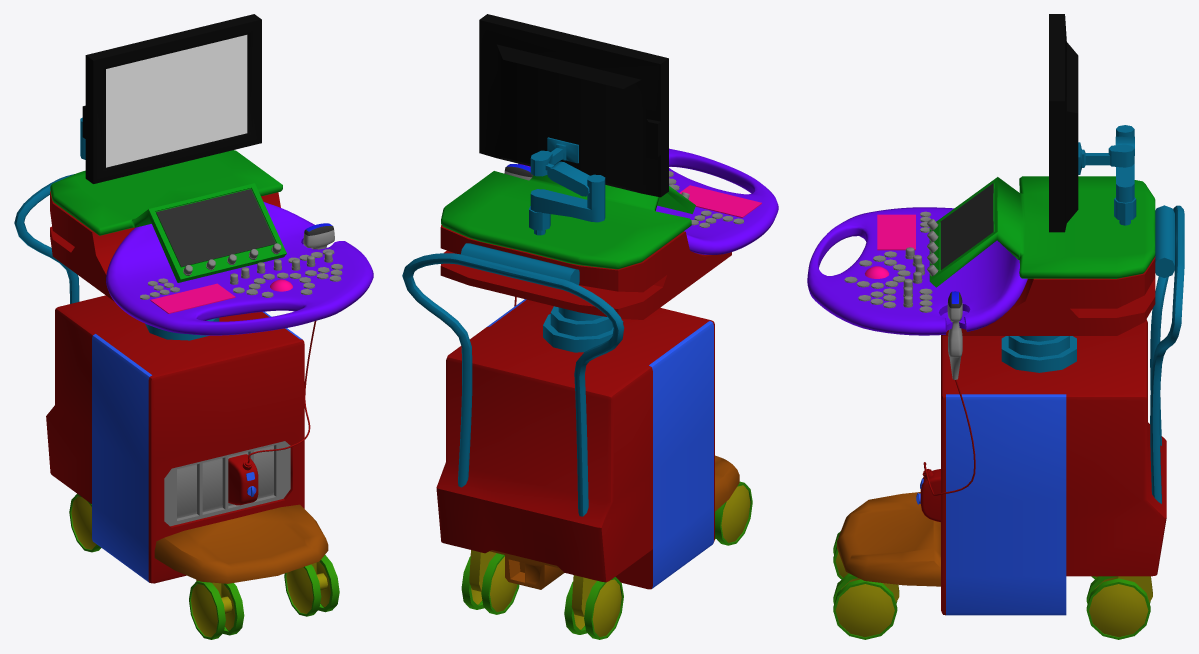
The model's file is volusone10_allV2.fbx.
3 views of the same model, side by side, from view 1: azimuth 30°, elevation 25°; view 2: azimuth 150°, elevation 25°; view 3: azimuth 270°, elevation 25° (orthographic). The views are drawn at different scales.
Parts seen in each view (by area): view 1: maquina_base, monitor, panel_top, panel_base_Retopo, wheels, maquina_inferior, transductor_conectado, metalic, keyboard; view 2: maquina_base, monitor, metalic, panel_top, wheels, panel_base_Retopo, keyboard; view 3: maquina_base, panel_top, panel_base_Retopo, metalic, wheels, monitor, transductor_conectado, keyboard.
Boxes of the visible parts, x1,y1,x2,y2 form: maquina_base: [46, 191, 328, 583]; monitor: [82, 14, 261, 183]; panel_top: [50, 150, 286, 282]; panel_base_Retopo: [106, 201, 373, 335]; wheels: [69, 494, 339, 639]; maquina_inferior: [164, 441, 290, 526]; transductor_conectado: [228, 223, 334, 505]; metalic: [14, 117, 219, 340]; keyboard: [150, 283, 235, 313]; maquina_base: [436, 225, 739, 589]; monitor: [479, 14, 668, 197]; metalic: [402, 137, 624, 516]; panel_top: [441, 171, 695, 269]; wheels: [461, 481, 752, 639]; panel_base_Retopo: [518, 148, 778, 254]; keyboard: [679, 185, 761, 217]; maquina_base: [837, 256, 1166, 615]; panel_top: [929, 176, 1155, 287]; panel_base_Retopo: [807, 207, 1027, 335]; metalic: [1001, 125, 1184, 503]; wheels: [833, 531, 1152, 639]; monitor: [1049, 14, 1078, 232]; transductor_conectado: [916, 291, 975, 522]; keyboard: [877, 214, 915, 250].
Bounding box in the file's own units: 64.92 × 138 × 85.72.
